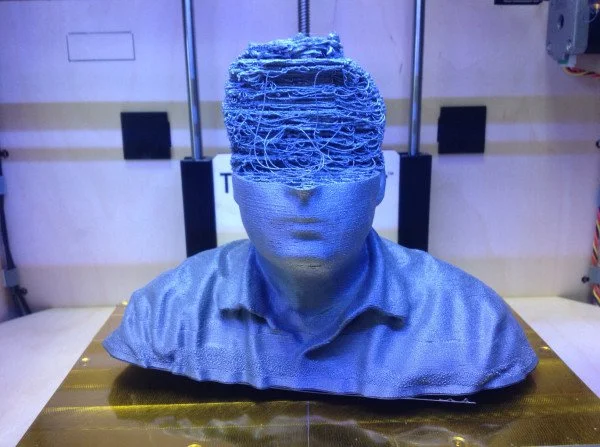Spaghetti: (224, 16, 390, 191)
